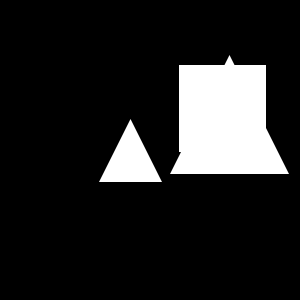circle: (179, 65, 266, 152)
triangle: (170, 55, 289, 174), (99, 119, 162, 182)
